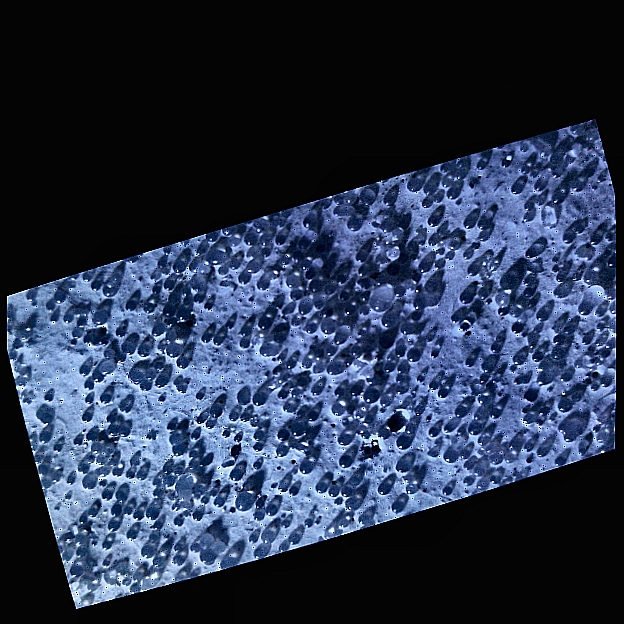GrassBeadSeg: (129, 217, 563, 594), (33, 171, 538, 493), (60, 234, 575, 522), (84, 144, 529, 464), (104, 125, 581, 423), (121, 199, 545, 516), (178, 124, 584, 449), (27, 333, 612, 553), (110, 182, 546, 477), (169, 186, 563, 511), (194, 202, 532, 570), (195, 244, 600, 551), (191, 166, 561, 490), (218, 197, 543, 563), (172, 232, 575, 527), (44, 265, 560, 488), (186, 194, 550, 505), (99, 336, 572, 567), (99, 303, 616, 500), (42, 308, 523, 512), (151, 273, 567, 498), (137, 188, 535, 414), (171, 278, 517, 526), (123, 301, 482, 540), (198, 217, 476, 520), (151, 195, 529, 414), (117, 343, 495, 558), (63, 307, 510, 485), (102, 241, 481, 450), (92, 375, 529, 552), (235, 302, 590, 511), (355, 237, 607, 524), (96, 287, 516, 458), (193, 265, 480, 514), (105, 348, 420, 566), (7, 312, 338, 514), (149, 286, 592, 436), (273, 217, 543, 458), (211, 143, 530, 344), (194, 246, 562, 418), (115, 353, 537, 501), (171, 386, 544, 553), (51, 334, 566, 451), (84, 308, 527, 442), (59, 282, 320, 508), (71, 338, 614, 446), (81, 314, 463, 464), (258, 289, 481, 545), (17, 252, 496, 371), (97, 239, 311, 498), (138, 416, 524, 559), (8, 351, 311, 525), (298, 291, 548, 494), (204, 318, 475, 499), (123, 256, 292, 546), (227, 325, 524, 481), (113, 385, 502, 502), (407, 182, 566, 468), (52, 377, 380, 511), (83, 308, 605, 392), (263, 262, 431, 517), (90, 308, 553, 399), (198, 292, 349, 566), (75, 375, 484, 474), (108, 312, 461, 423), (47, 425, 484, 514), (270, 283, 535, 424), (364, 167, 531, 386), (78, 366, 467, 460), (113, 306, 370, 440), (179, 421, 571, 508), (255, 217, 550, 330), (461, 218, 608, 436), (92, 345, 335, 475), (131, 434, 490, 520), (19, 285, 314, 385), (305, 177, 423, 423), (57, 314, 548, 371), (52, 291, 156, 549), (54, 361, 344, 453), (174, 357, 317, 525), (204, 257, 363, 397), (135, 386, 346, 490), (341, 305, 477, 463), (285, 458, 502, 546), (70, 310, 191, 467), (241, 236, 441, 329), (335, 234, 602, 302), (59, 428, 390, 480), (37, 384, 322, 444), (80, 311, 174, 490), (87, 348, 565, 383), (82, 281, 163, 484), (344, 433, 575, 502), (323, 275, 515, 357), (284, 276, 565, 331), (74, 517, 284, 590), (48, 313, 367, 361), (100, 343, 226, 464), (342, 367, 440, 511), (523, 238, 616, 370), (483, 168, 614, 259), (100, 461, 408, 499), (333, 428, 452, 526), (204, 216, 441, 265), (202, 347, 364, 416), (456, 291, 548, 411), (375, 218, 488, 307), (394, 325, 575, 379), (172, 262, 270, 357), (394, 399, 572, 451), (124, 451, 486, 476), (288, 354, 379, 452), (329, 261, 431, 345), (383, 240, 464, 341), (317, 293, 507, 335), (463, 316, 557, 396), (72, 278, 175, 351), (163, 273, 252, 357), (257, 342, 314, 472), (278, 322, 523, 350), (334, 219, 364, 445), (331, 182, 435, 246), (201, 338, 313, 397), (354, 293, 511, 335), (202, 290, 345, 336), (434, 171, 496, 277), (209, 391, 367, 432), (68, 509, 159, 577), (40, 418, 128, 488), (71, 468, 188, 519), (254, 450, 341, 518), (221, 195, 390, 229), (169, 259, 240, 337), (406, 336, 497, 396), (281, 220, 317, 369), (237, 410, 384, 446), (295, 275, 490, 299), (71, 311, 139, 378), (412, 361, 494, 416), (202, 297, 300, 341), (509, 148, 603, 193), (359, 243, 442, 293), (366, 349, 414, 433), (433, 429, 500, 489), (456, 159, 577, 192), (112, 256, 174, 320), (88, 485, 204, 518), (65, 518, 119, 587), (269, 245, 323, 314), (297, 455, 391, 494), (524, 421, 611, 462), (277, 355, 357, 398), (427, 423, 473, 494), (549, 335, 609, 389), (81, 260, 166, 297), (199, 416, 259, 468), (7, 294, 35, 404), (537, 387, 603, 433), (106, 250, 185, 288), (275, 408, 364, 441), (145, 377, 189, 443), (551, 134, 601, 190), (108, 476, 175, 517), (305, 302, 392, 333), (36, 464, 104, 500), (339, 408, 366, 496), (238, 328, 362, 347), (31, 274, 87, 316), (83, 372, 154, 404), (359, 388, 491, 405), (151, 419, 213, 455), (452, 402, 574, 419), (359, 247, 398, 300), (227, 410, 262, 469), (149, 265, 189, 315), (462, 343, 545, 367), (239, 235, 302, 266), (420, 165, 464, 208), (81, 394, 121, 436), (476, 374, 598, 386), (336, 455, 411, 474), (378, 396, 416, 433), (44, 303, 83, 339), (62, 547, 108, 576), (510, 355, 552, 386), (205, 225, 265, 246), (476, 443, 533, 463), (382, 187, 436, 208), (246, 519, 291, 543), (143, 303, 170, 341), (336, 252, 366, 283), (101, 570, 141, 586), (575, 303, 592, 315), (26, 292, 33, 300)
